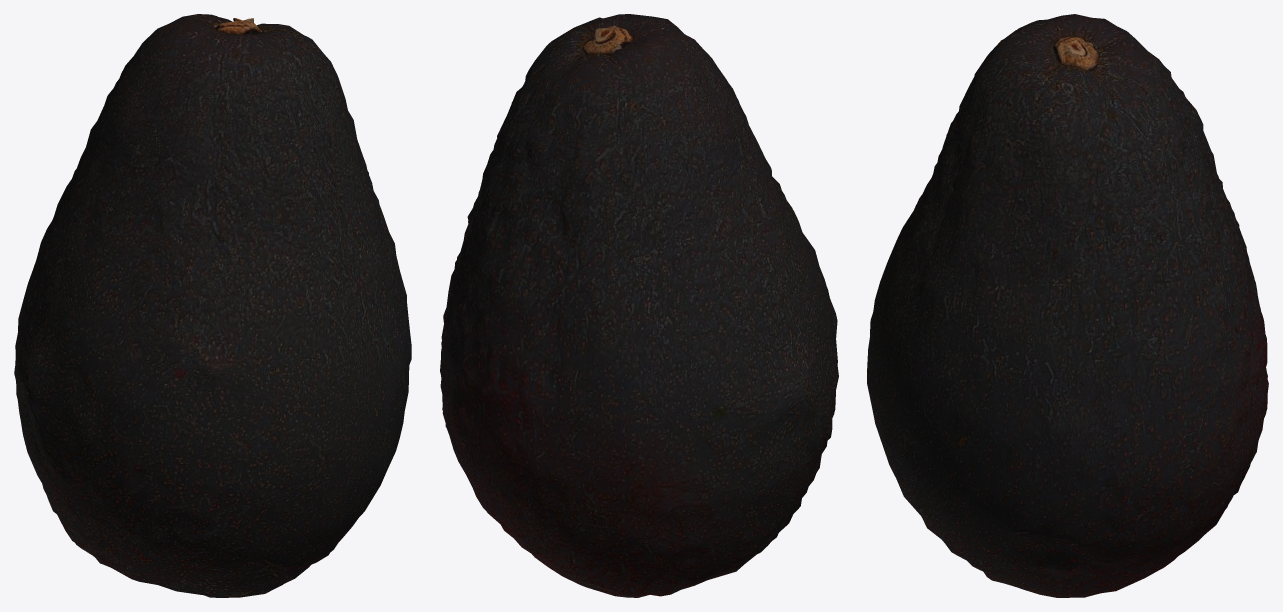
Rendered from food_avocado_01.glb.
The picture shows the model from 3 angles, left to right: view 1: azimuth 30°, elevation 25°; view 2: azimuth 150°, elevation 25°; view 3: azimuth 270°, elevation 25°; orthographic projection. The views are drawn at different scales.
Parts seen in each view (by area): view 1: food_avocado_01; view 2: food_avocado_01; view 3: food_avocado_01.
Boxes of the visible parts, bbox=[...] form: food_avocado_01: bbox=[14, 14, 411, 597]; food_avocado_01: bbox=[440, 14, 838, 597]; food_avocado_01: bbox=[867, 14, 1268, 597].
Size of the model in its own units: 0.0953 by 0.1437 by 0.0946.
Materials: 1 (1 with a texture image).
